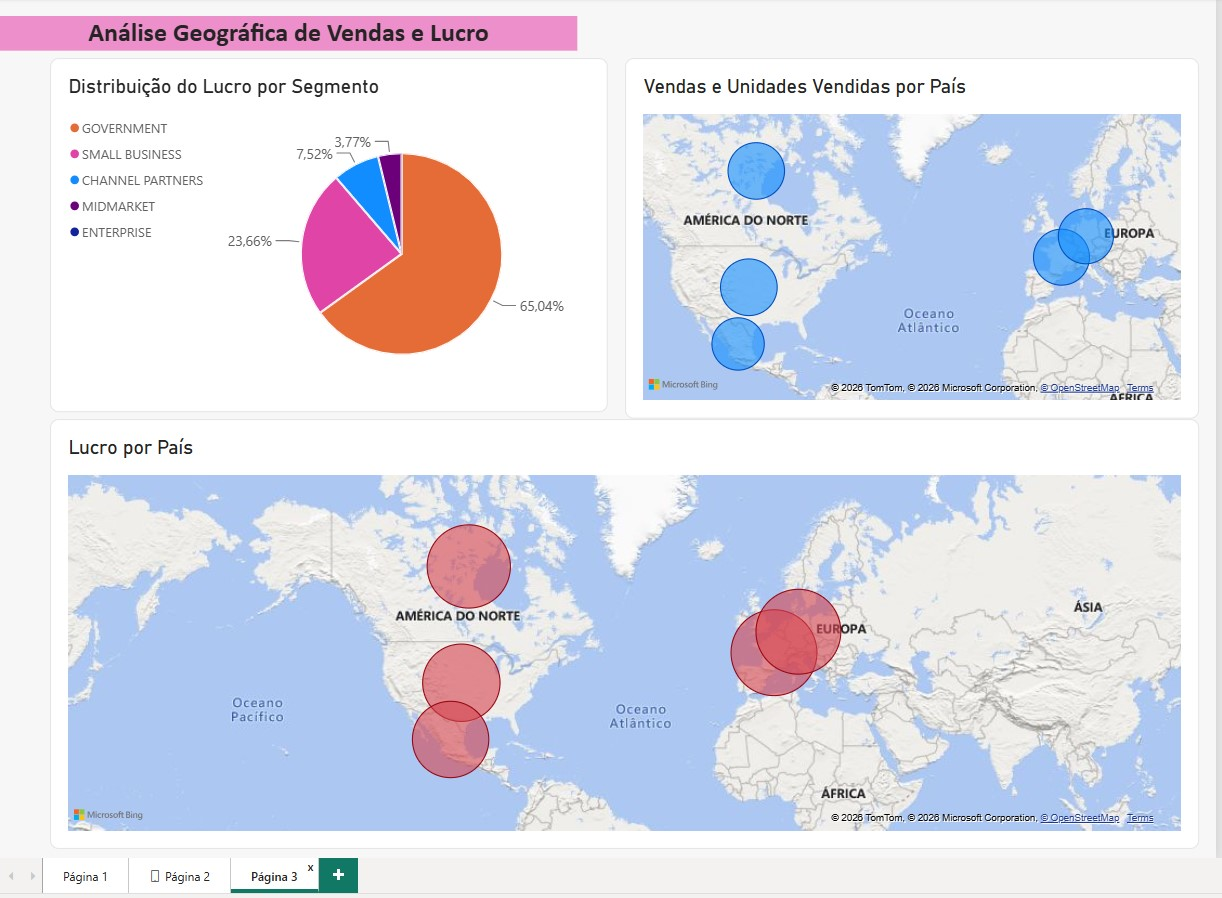

The page's visual inventory and layout, read from the dashboard file:
{"tool":"powerbi","page":{"name":"Página 3","canvas":[1123,794],"ordinal":2},"visuals":[{"type":"map","title":"Vendas e Unidades Vendidas por País","fields":{"Category":["financials.Country"],"Size":["Sum(financials. Sales)"]},"box":[577,55.4,529.9,333.3],"z":0},{"type":"map","title":"Lucro por País","fields":{"Category":["financials.Country"],"Size":["Sum(financials.Profit)"]},"box":[46.2,388.7,1060.8,397],"z":1000},{"type":"pieChart","title":"Distribuição do Lucro por Segmento","fields":{"Category":["financials.Segment"],"Y":["Sum(financials.Profit)"]},"box":[46.2,55.4,515.2,326.8],"z":2000},{"type":"textbox","box":[0,16.4,532.7,31.8],"z":3000}]}

Visuals, with their boxes on the page's 1123x794 design canvas (x1, y1, x2, y2). These are canvas units, not pixel positions in the 1222x898 screenshot, which may show the page scaled, cropped or inside an application window:
"Vendas e Unidades Vendidas por País" map: region(577, 55, 1107, 389)
"Lucro por País" map: region(46, 389, 1107, 786)
"Distribuição do Lucro por Segmento" pieChart: region(46, 55, 561, 382)
textbox: region(0, 16, 533, 48)
